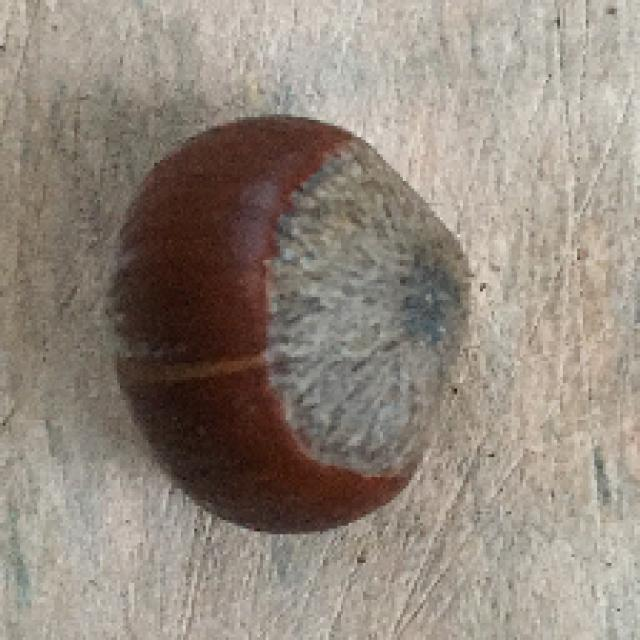DamagedHazelnut: (110, 116, 478, 537)
